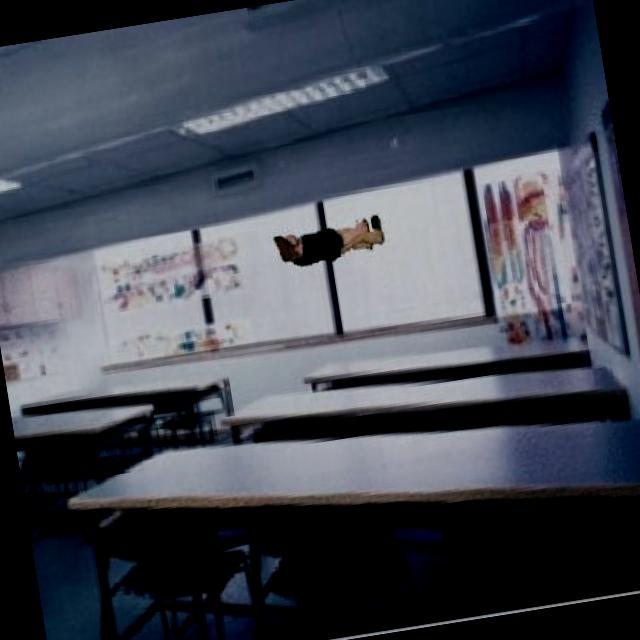Person: (264, 198, 392, 274)
